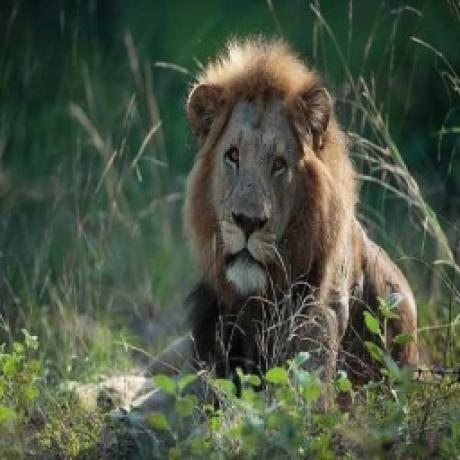Lion: (181, 34, 425, 382)
